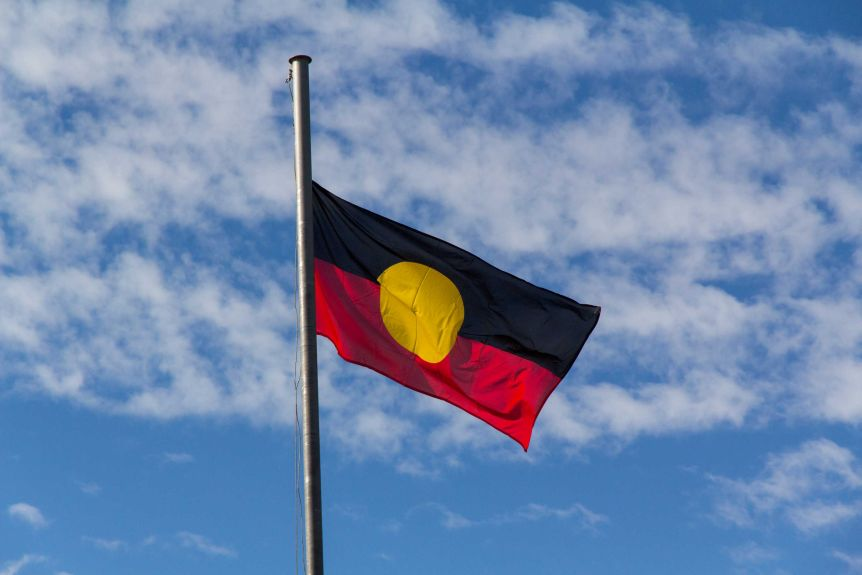aboriginal_flag: (295, 172, 611, 462)
